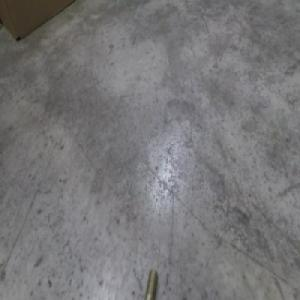Bolt: (143, 265, 158, 299)
